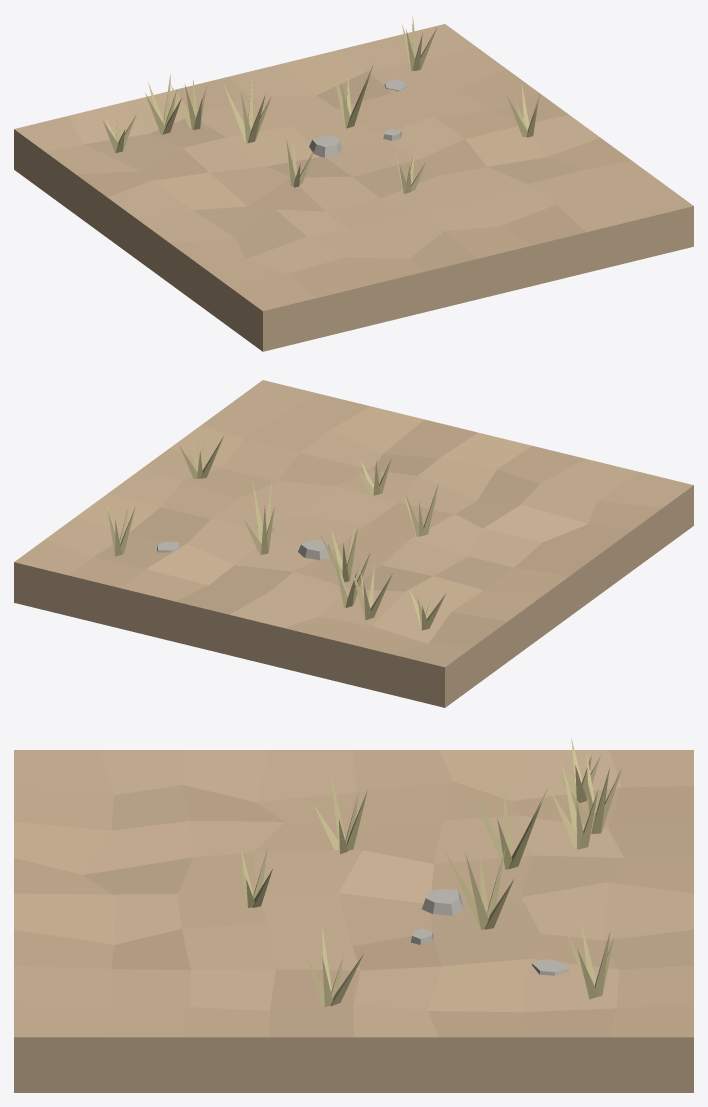
File: SM_Ground_Grass_Patchy.glb
The picture shows the model from 3 angles, top to bottom: view 1: azimuth 30°, elevation 25°; view 2: azimuth 150°, elevation 25°; view 3: azimuth 270°, elevation 25°; orthographic projection. The views are drawn at different scales.
Visible parts, largest first — view 1: SM_Ground_Grass_Patchy; view 2: SM_Ground_Grass_Patchy; view 3: SM_Ground_Grass_Patchy.
Part boxes in pixels (bbox=[...]): SM_Ground_Grass_Patchy: bbox=[14, 16, 693, 351]; SM_Ground_Grass_Patchy: bbox=[14, 380, 693, 707]; SM_Ground_Grass_Patchy: bbox=[14, 738, 693, 1092].
Bounding box in the file's own units: 2 × 0.4461 × 2.
